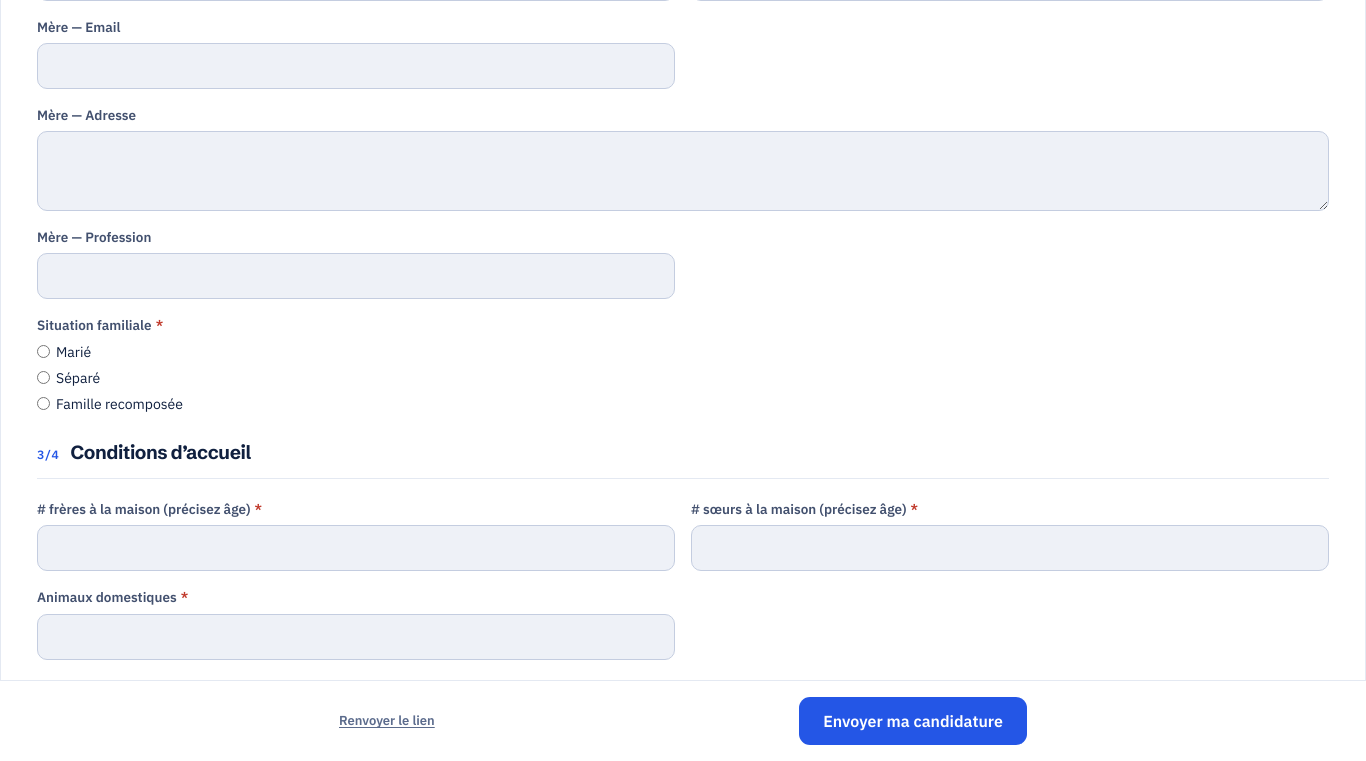
Test: ApplicationForm › hides the separation housing address until family status is separated / step-family
(page scrolled)
expect the text "adresse où sera accueilli le correspondant" is not shown: met
Click the radio button labelled "Séparé".
click(44, 378)  # box [37, 371, 50, 384]
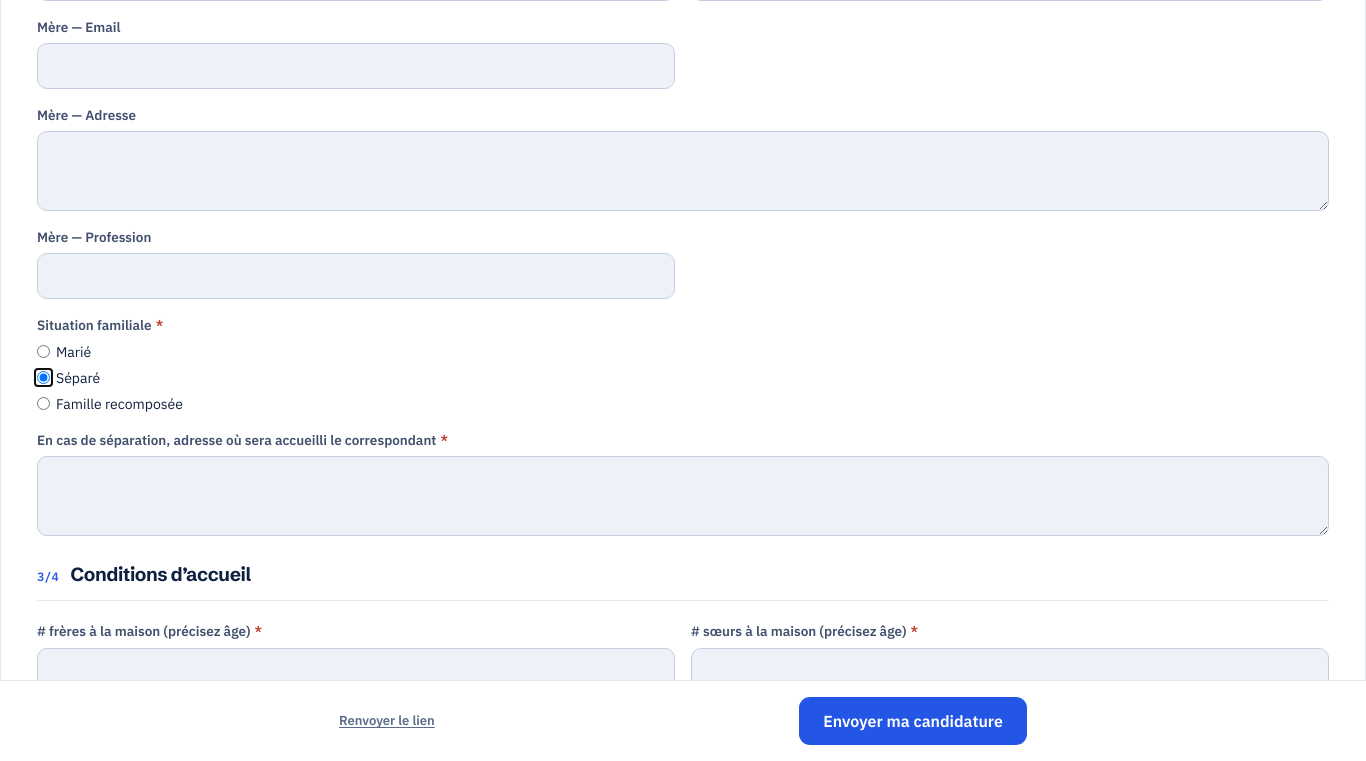
expect the text "adresse où sera accueilli le correspondant" is shown: met, box [37, 431, 436, 449]
